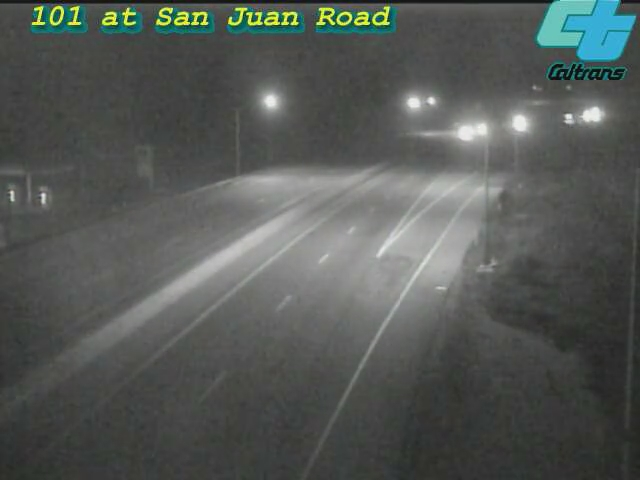vehicle: (545, 94, 595, 144), (441, 107, 491, 157), (493, 99, 543, 149), (455, 105, 505, 155), (564, 90, 614, 140)
